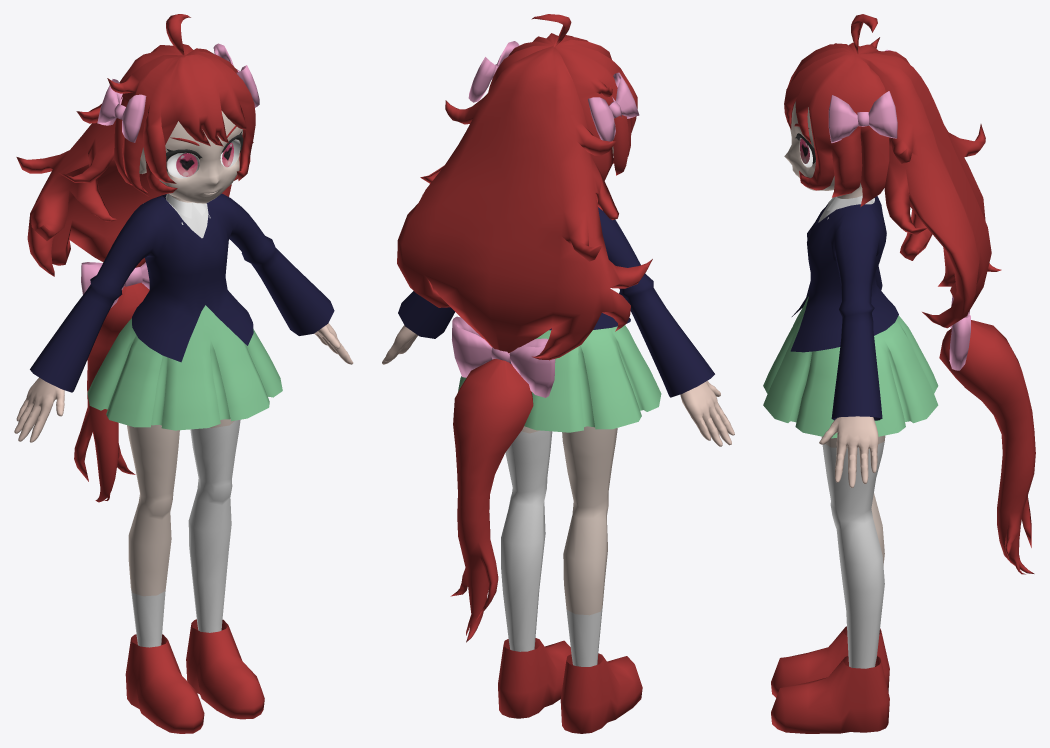
The model's file is Magical_girl.fbx.
3 views of the same model, side by side, from view 1: azimuth 30°, elevation 25°; view 2: azimuth 150°, elevation 25°; view 3: azimuth 270°, elevation 25° (orthographic). The views are drawn at different scales.
Parts seen in each view (by area): view 1: polySurface14, polySurface34, polySurface22, pCylinder3, pCylinder11, polySurface24, polySurface23, polySurface12, hund_L, ribon4, ribon, hand:hund_L (+1 smaller); view 2: polySurface34, polySurface22, pCylinder3, polySurface14, pCylinder11, polySurface24, polySurface23, ribon (×3), hund_L, ribonn:ribon, ribon4, hand:hund_L; view 3: polySurface34, polySurface14, pCylinder3, pCylinder11, polySurface22, polySurface23, polySurface24, hand:hund_L, polySurface12, ribon4, ribon, ribonn:ribon (+1 smaller).
Part boxes in pixels (box(x1,y1,x2,y2)): polySurface14: box(30, 193, 334, 392); polySurface34: box(16, 44, 253, 502); polySurface22: box(127, 419, 240, 647); pCylinder3: box(87, 305, 282, 430); pCylinder11: box(107, 48, 255, 196); polySurface24: box(125, 634, 204, 733); polySurface23: box(186, 619, 264, 719); polySurface12: box(139, 111, 242, 207); hund_L: box(14, 377, 64, 442); ribon4: box(122, 94, 146, 142); ribon: box(97, 79, 122, 125); hand:hund_L: box(314, 323, 353, 364); polySurface34: box(397, 46, 652, 642); polySurface22: box(501, 426, 617, 666); pCylinder3: box(458, 325, 661, 432); polySurface14: box(398, 207, 714, 397); pCylinder11: box(488, 33, 637, 180); polySurface24: box(560, 653, 642, 733); polySurface23: box(498, 638, 571, 718); ribon (×3): box(468, 57, 615, 397); hund_L: box(680, 381, 734, 446); ribonn:ribon: box(452, 316, 492, 377); ribon4: box(612, 72, 639, 118); hand:hund_L: box(382, 325, 417, 364); polySurface34: box(856, 49, 1035, 574); polySurface14: box(790, 196, 898, 420); pCylinder3: box(763, 296, 938, 438); pCylinder11: box(784, 37, 889, 206); polySurface22: box(821, 435, 885, 668); polySurface23: box(771, 656, 889, 733); polySurface24: box(771, 626, 889, 697); hand:hund_L: box(819, 416, 878, 487); polySurface12: box(784, 101, 862, 198); ribon4: box(828, 95, 858, 142); ribon: box(868, 91, 897, 138); ribonn:ribon: box(949, 313, 970, 370).
Bounding box in the file's own units: 74.97 × 146 × 52.08.
10 materials, 1 textured.
